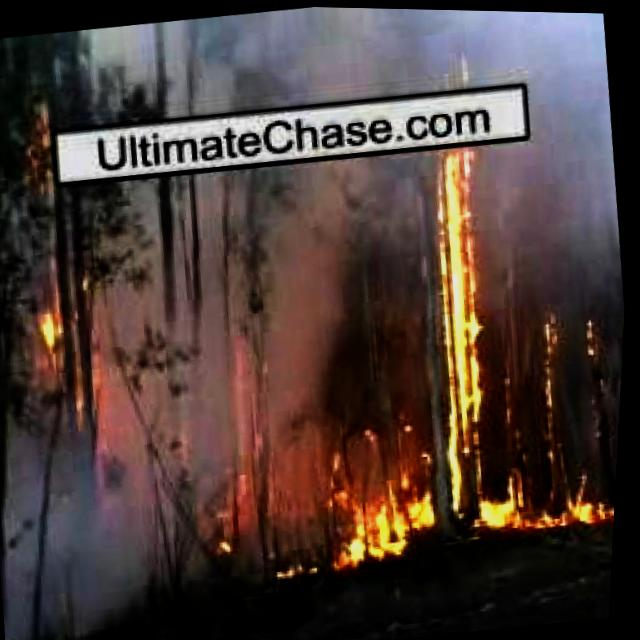helmet: (333, 445, 622, 564), (438, 151, 511, 459), (9, 106, 63, 195), (532, 316, 572, 419), (204, 498, 251, 561), (28, 291, 71, 352), (579, 311, 609, 353)
